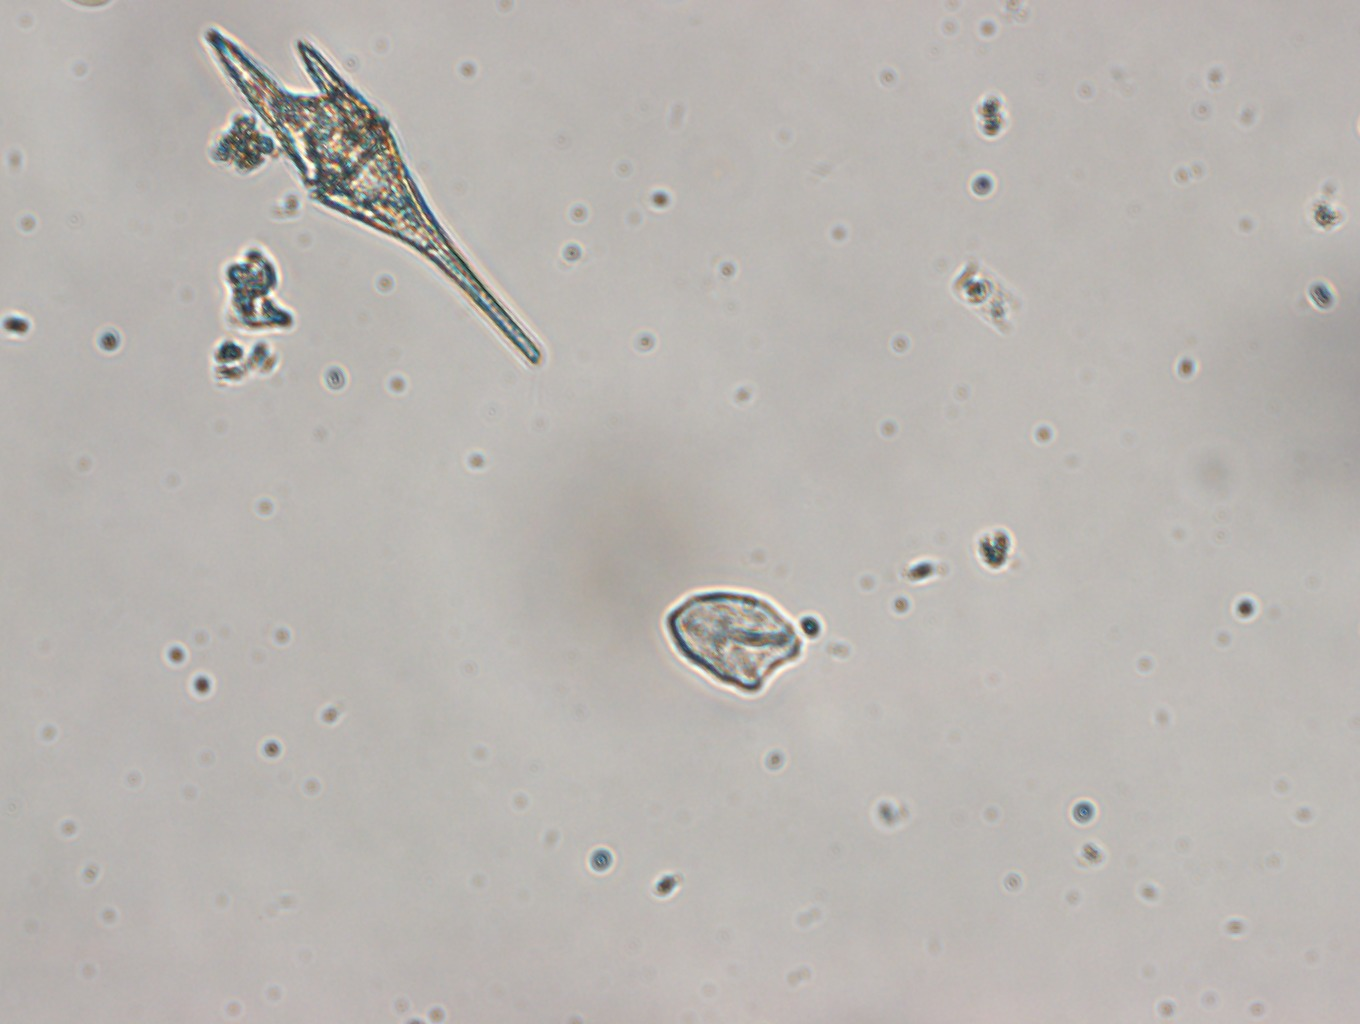ceratium furca: (197, 22, 543, 367)
